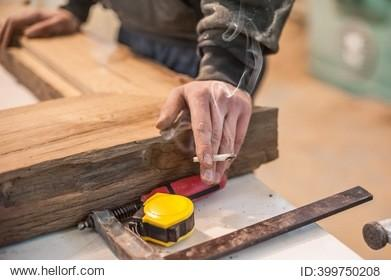Cigarette: (193, 154, 236, 163)
